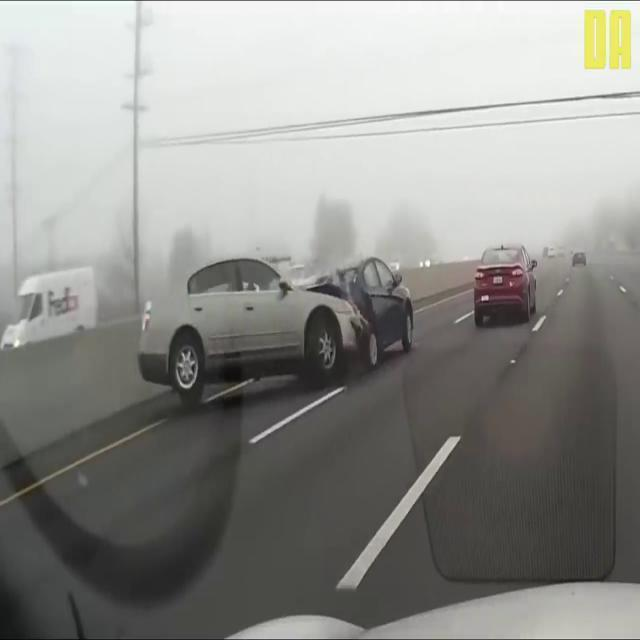accident: (139, 257, 415, 397)
